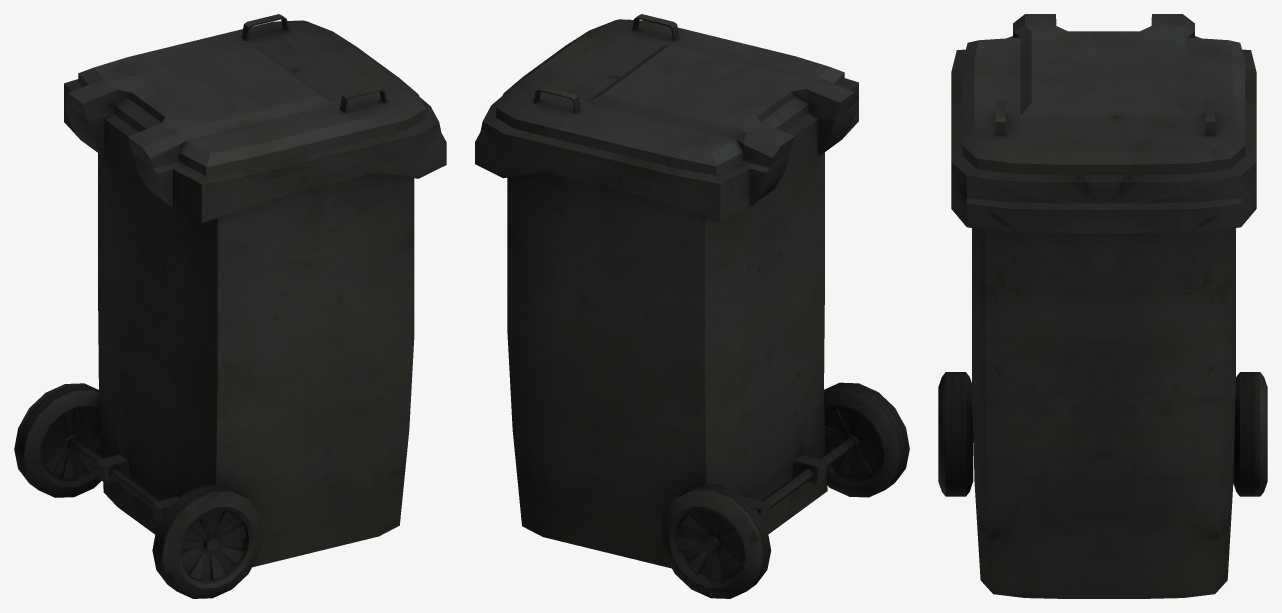
Rendered from trashcan.obj.
3 views of the same model, side by side, from view 1: azimuth 30°, elevation 25°; view 2: azimuth 150°, elevation 25°; view 3: azimuth 270°, elevation 25° (orthographic). The views are drawn at different scales.
Visible parts, largest first — view 1: Cube_Cube.001; view 2: Cube_Cube.001; view 3: Cube_Cube.001.
Part boxes in pixels (x1,y1,x2,y2): Cube_Cube.001: [14, 14, 446, 598]; Cube_Cube.001: [475, 14, 909, 598]; Cube_Cube.001: [938, 14, 1267, 598].
Bounding box in the file's own units: 2.97 × 4.1 × 2.59.
1 material, 1 textured.
